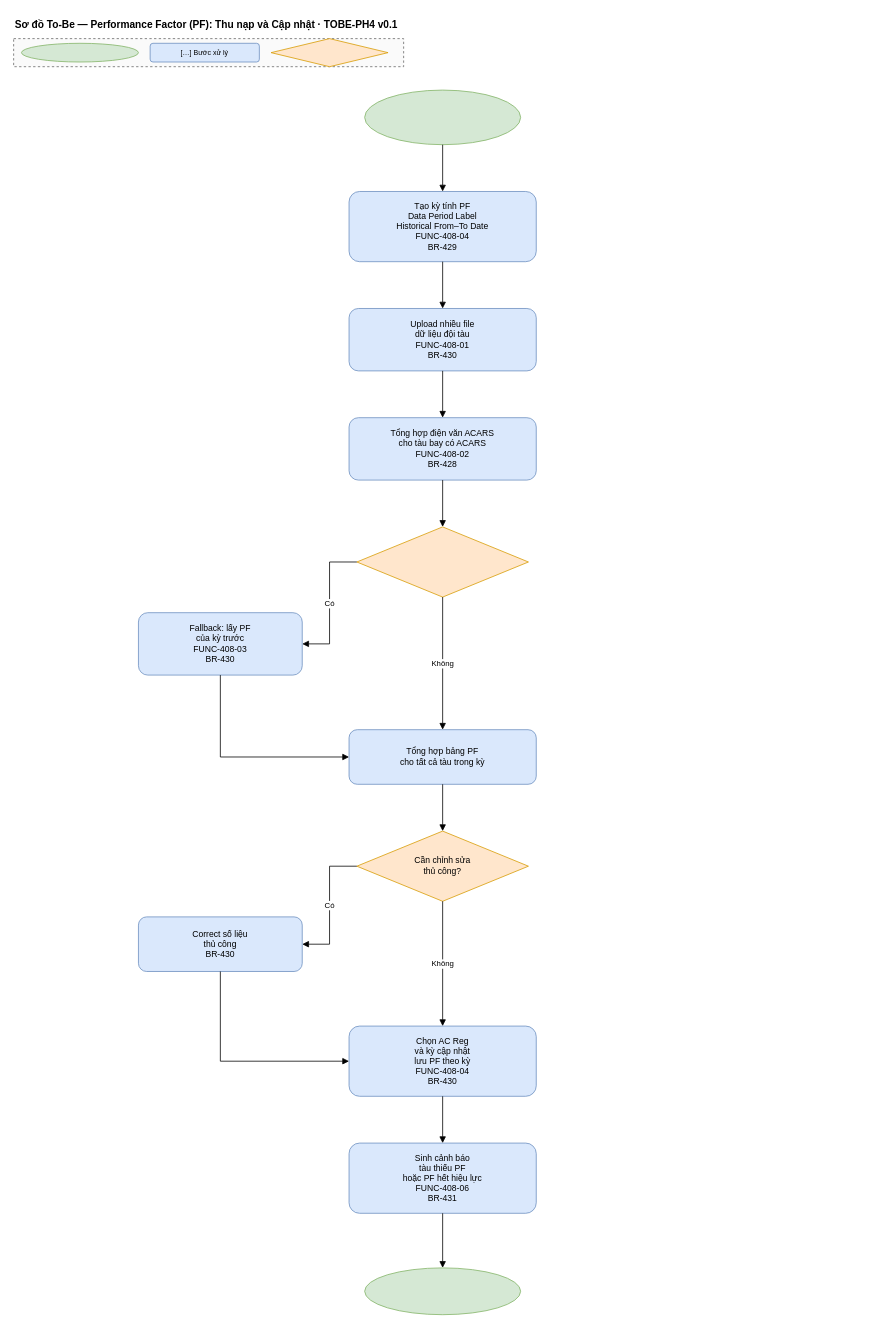
Image size: 885x1328. Some labels were removed from this diagram. The box of each missing label's shape, as (x1, y1, x2, y2) in pixels:
((…)) Bắt đầu / Kết thúc: (21, 43, 138, 62)
Admin PH4 bắt đầu cập nhật PF: (364, 89, 521, 145)
Kết thúc cập nhật PF: (364, 1267, 521, 1315)
Tàu thiếu dữ liệu tính PF?: (356, 526, 528, 597)
{…} Điểm quyết định: (270, 38, 388, 67)
